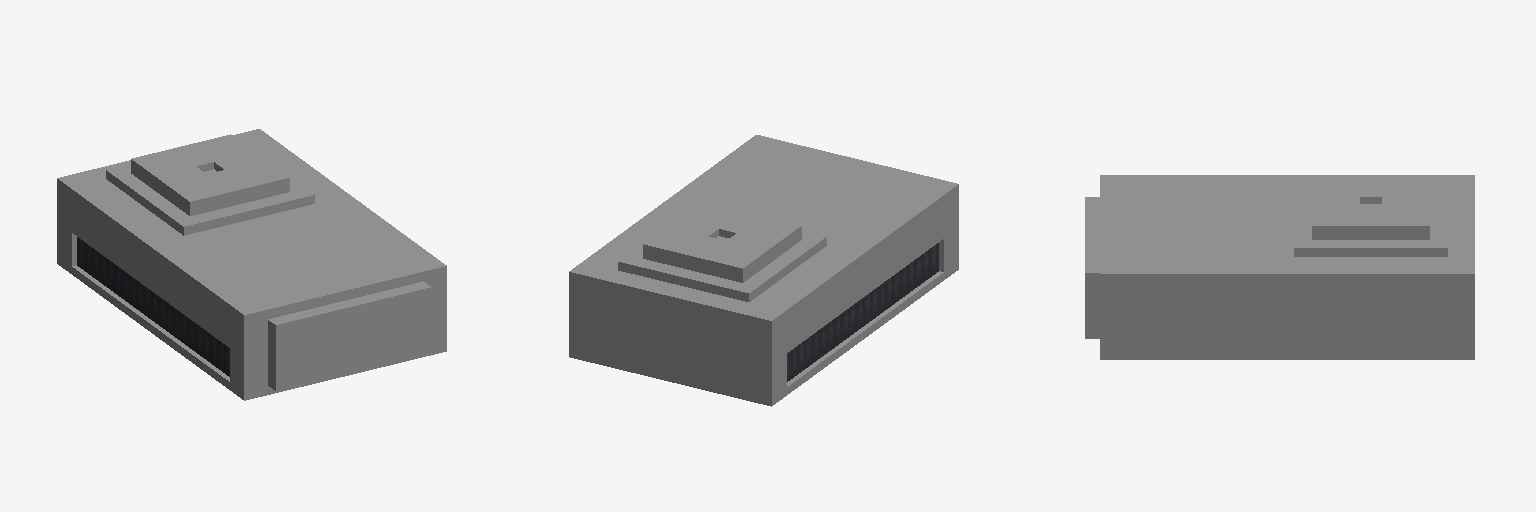
3 renders of one model, left to right at view 1: azimuth 30°, elevation 25°; view 2: azimuth 150°, elevation 25°; view 3: azimuth 270°, elevation 25°, orthographic.
Parts seen in each view (by area): view 1: Cube; view 2: Cube; view 3: Cube.
Boxes of the visible parts, <box> form: Cube: <box>57,129,446,400</box>; Cube: <box>569,135,958,406</box>; Cube: <box>1085,175,1474,359</box>.
Size of the model in its own units: 1.02 by 0.522 by 1.7.
Materials: 2 (1 with a texture image).